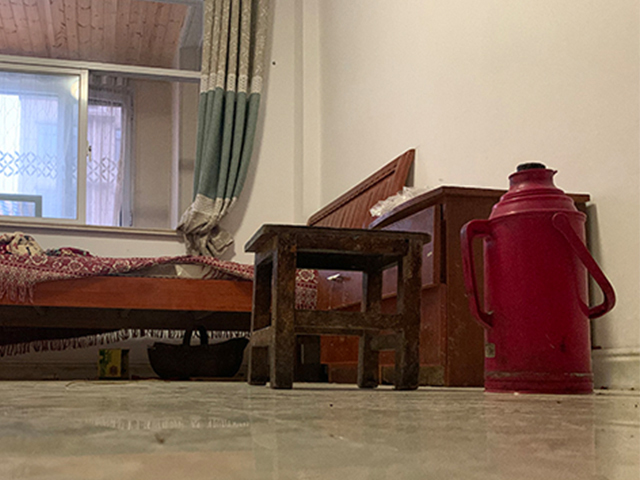bed: (1, 149, 416, 385)
cabinet: (372, 185, 487, 390)
curtain: (175, 1, 271, 255)
stool: (244, 223, 434, 392)
